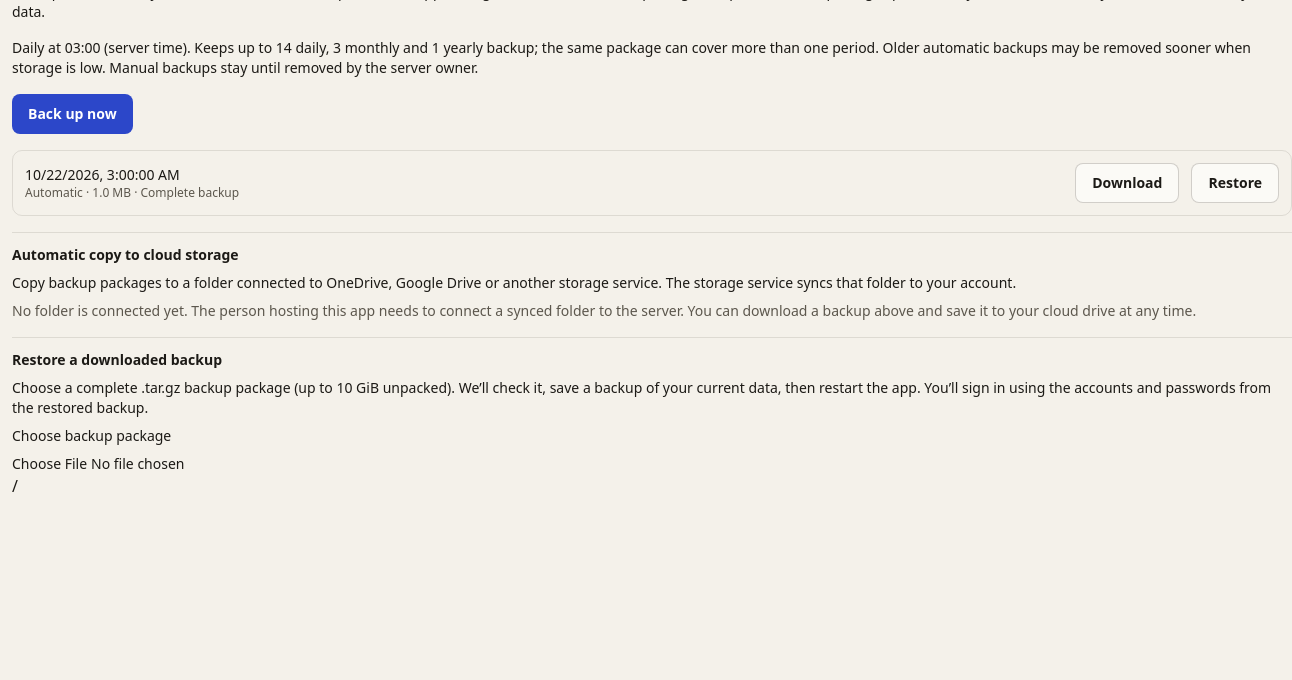
Scenario: explains complete backups and retention, offers a download, and requires confirmation to restore
This screenshot has width=1292, height=680.
Expected: the text "Keeps up to 14 daily, 3 monthly and 1 yearly" is shown, [12, 38, 1251, 77]
Expected: the text "No folder is connected" is shown, [12, 301, 1196, 320]
Click the button with aria-label "Restore backup from" at point(1235, 183), box [1191, 163, 1279, 203]
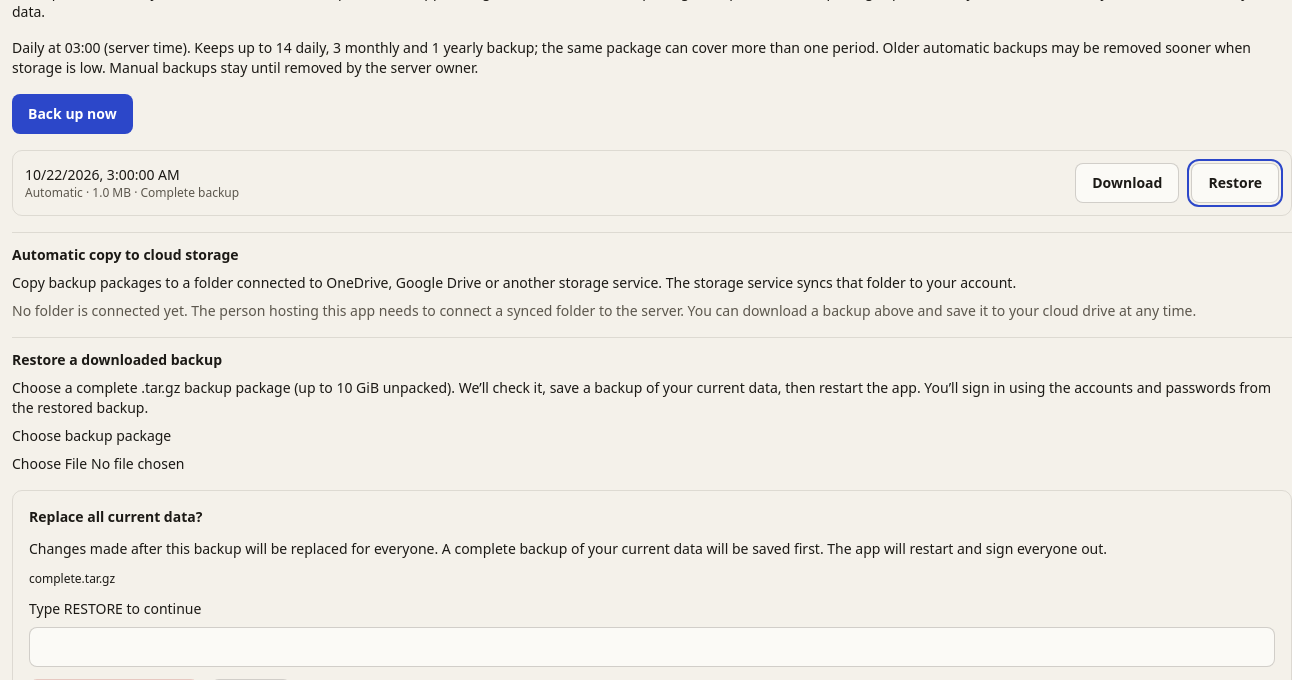
Type "RESTORE" into the field labelled "Type RESTORE to continue" at point(652, 647), box [29, 627, 1275, 667]
(page scrolled)
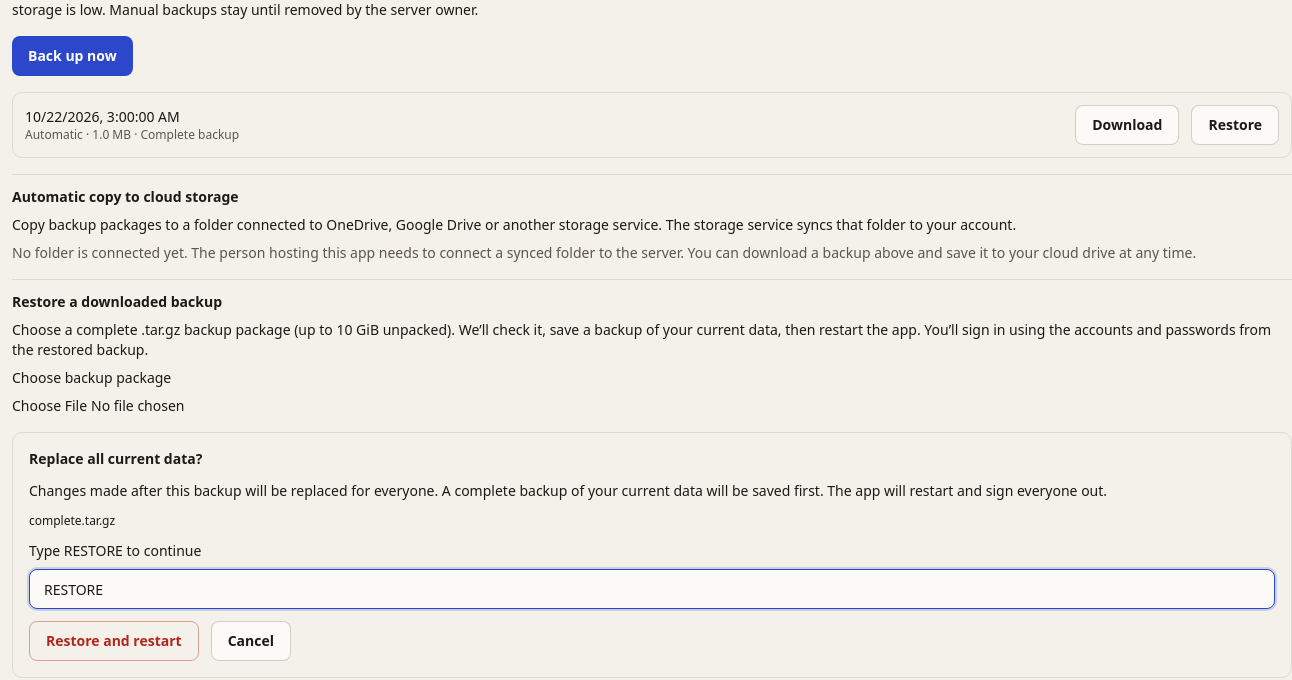
Click the button "Restore and restart" at point(114, 641), box [29, 621, 199, 661]
(page scrolled)
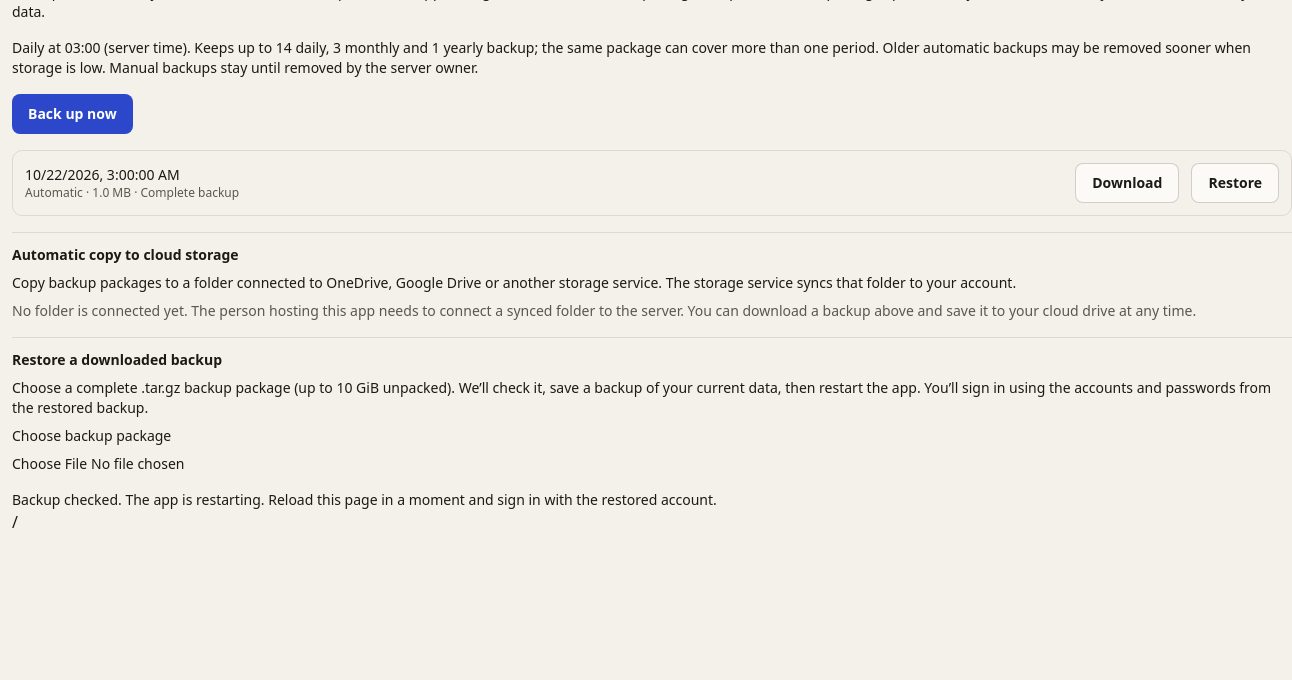
Now the text "The app is restarting" is shown, box [12, 490, 717, 509]
